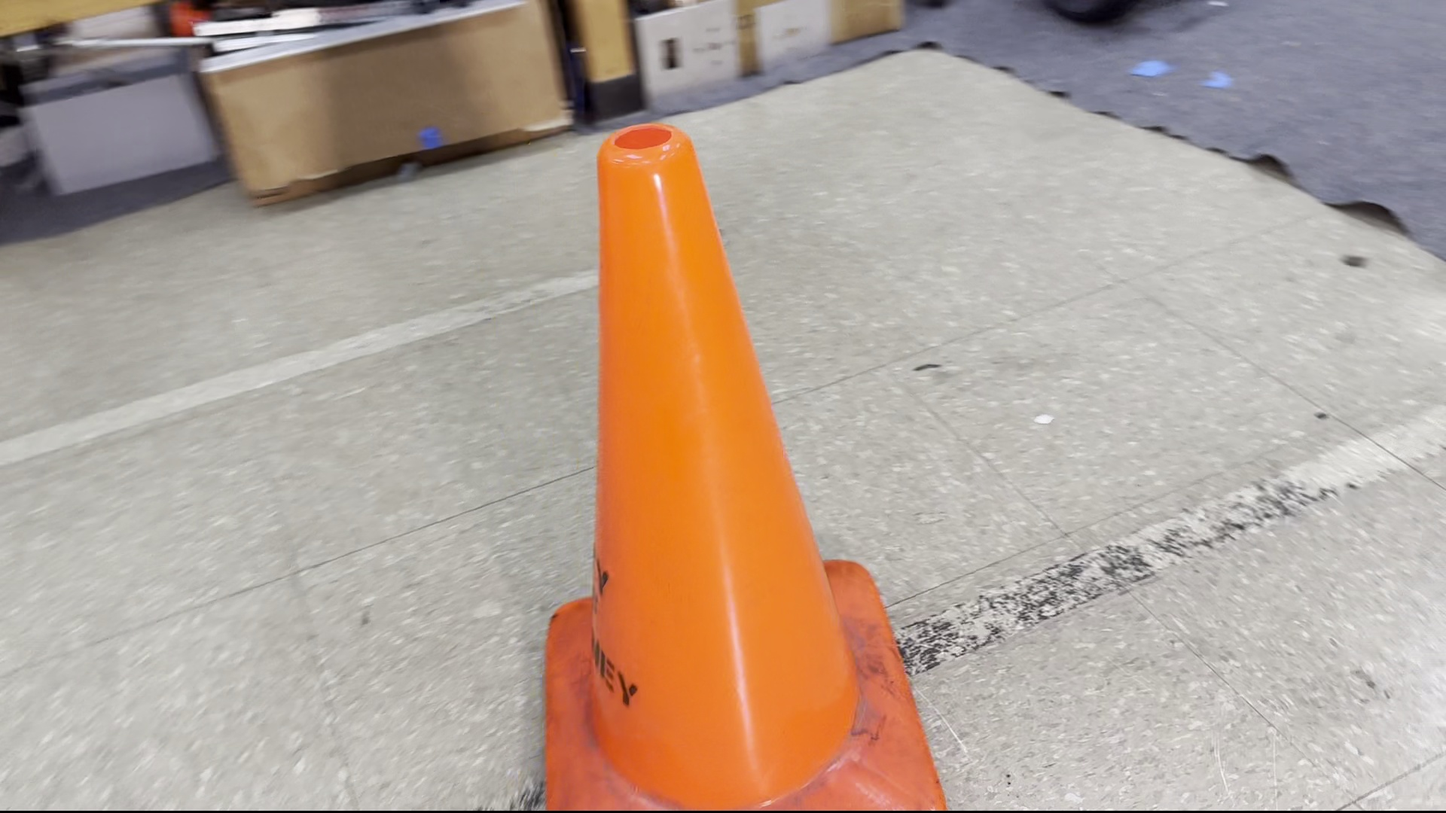traffic_cone: (542, 121, 948, 811)
